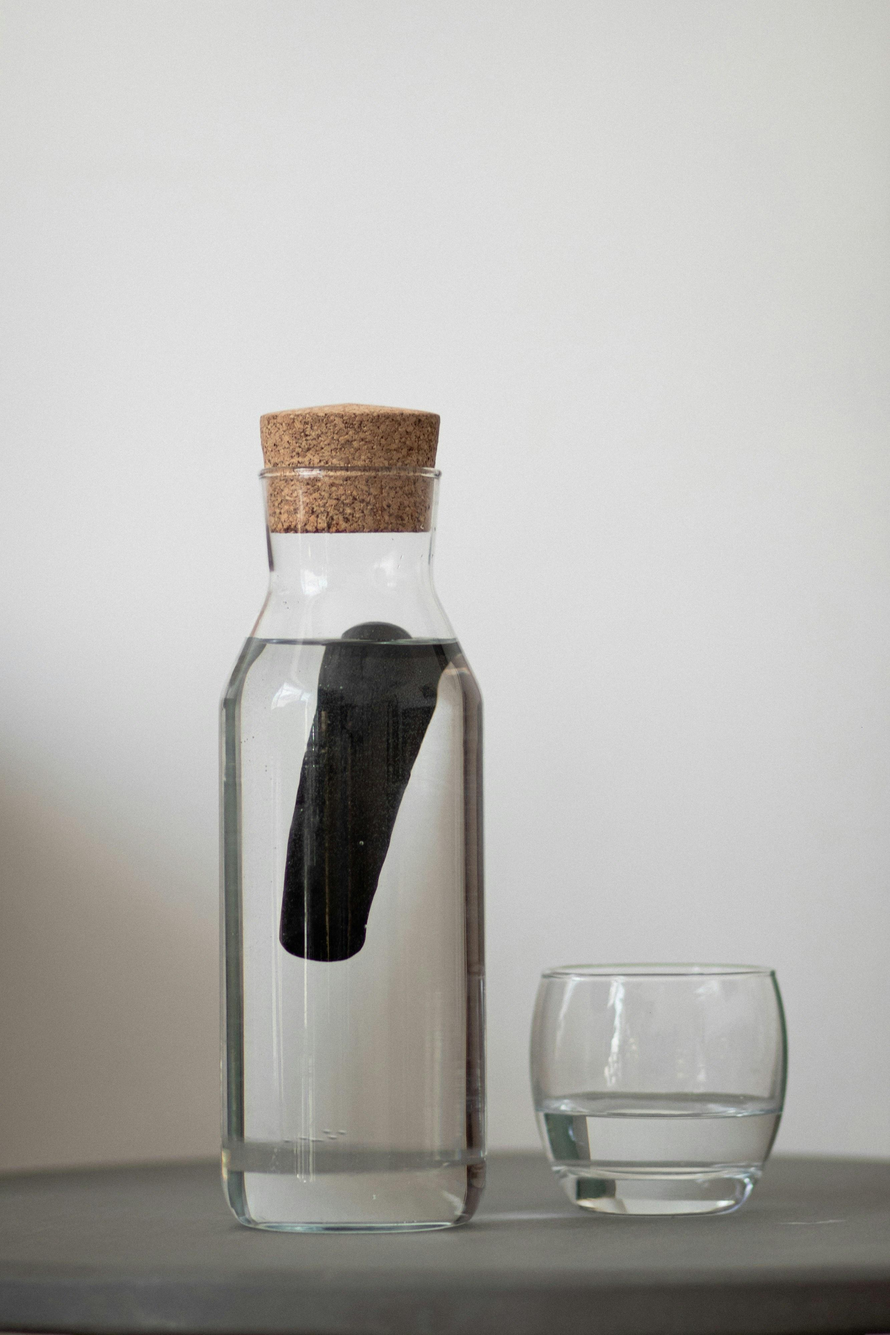Bottle-Detection: (90, 314, 537, 1288)
